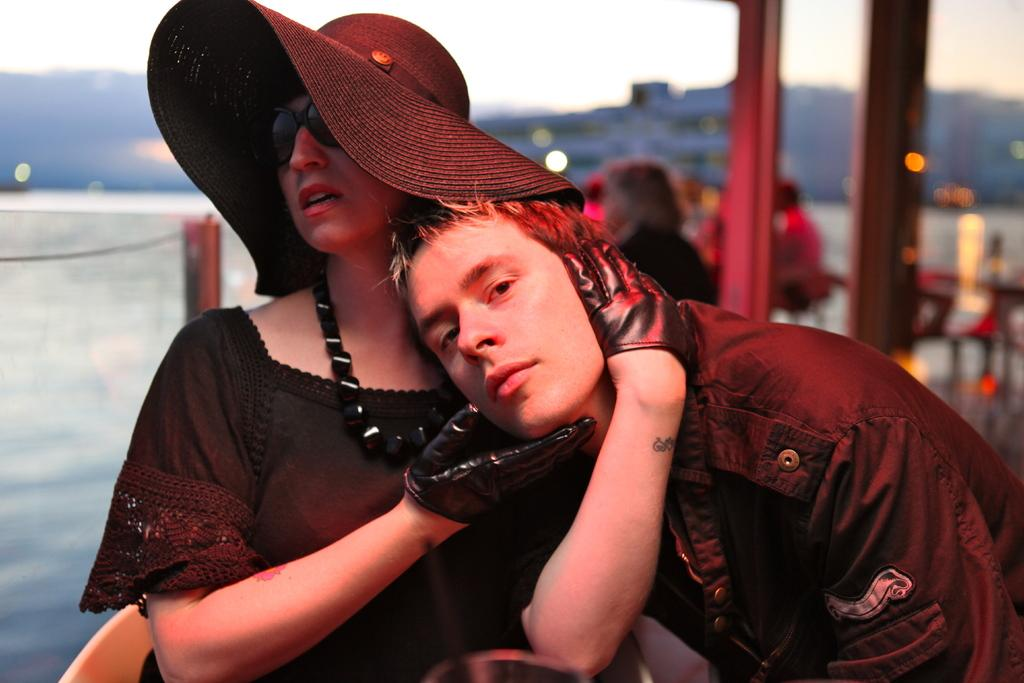Hat: (144, 0, 584, 294)
